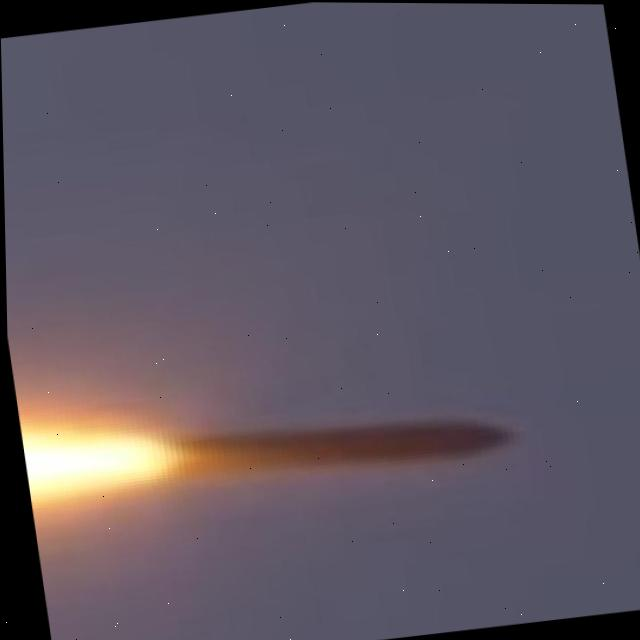missile: (168, 405, 512, 495)
